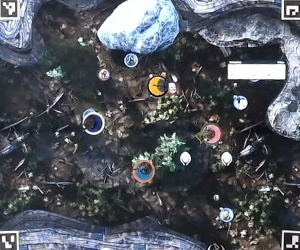blue: (82, 110, 105, 133)
light_blue_orange: (132, 161, 155, 184)
pink_green: (199, 123, 222, 146)
yellow_night_blue: (143, 76, 166, 99)
